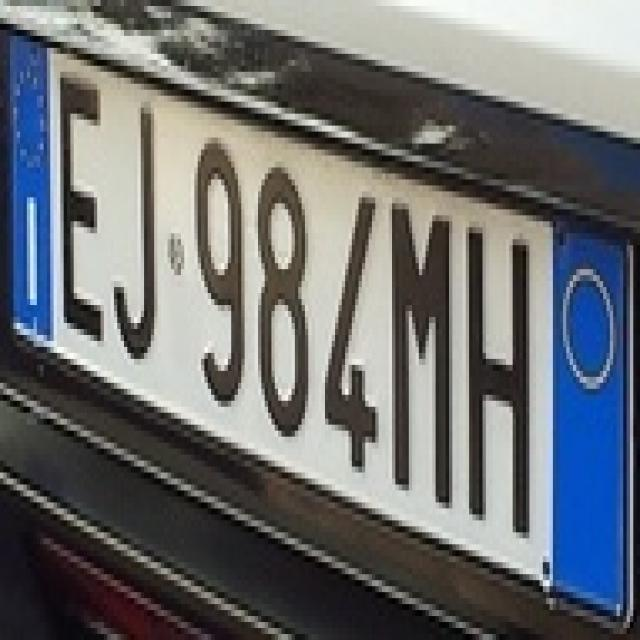licenseplate: (0, 6, 633, 634)
